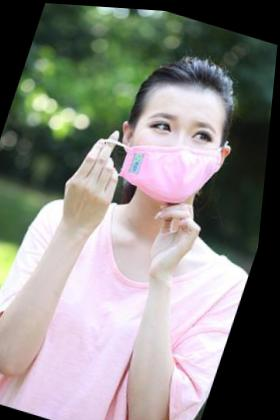WRONG: (120, 98, 235, 211)
